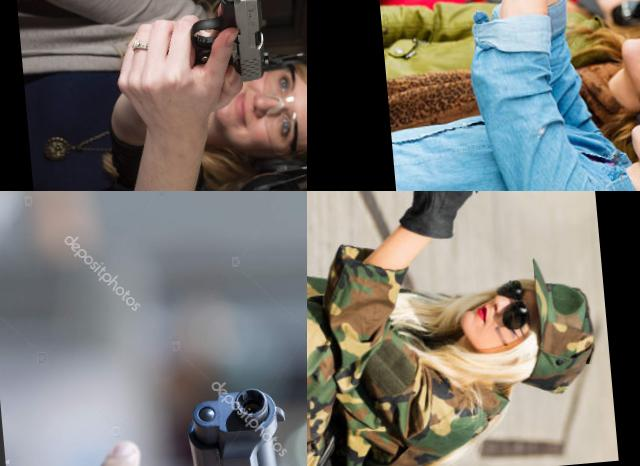handgun: (73, 379, 307, 466), (154, 0, 277, 92), (435, 191, 504, 246), (554, 0, 624, 40)
